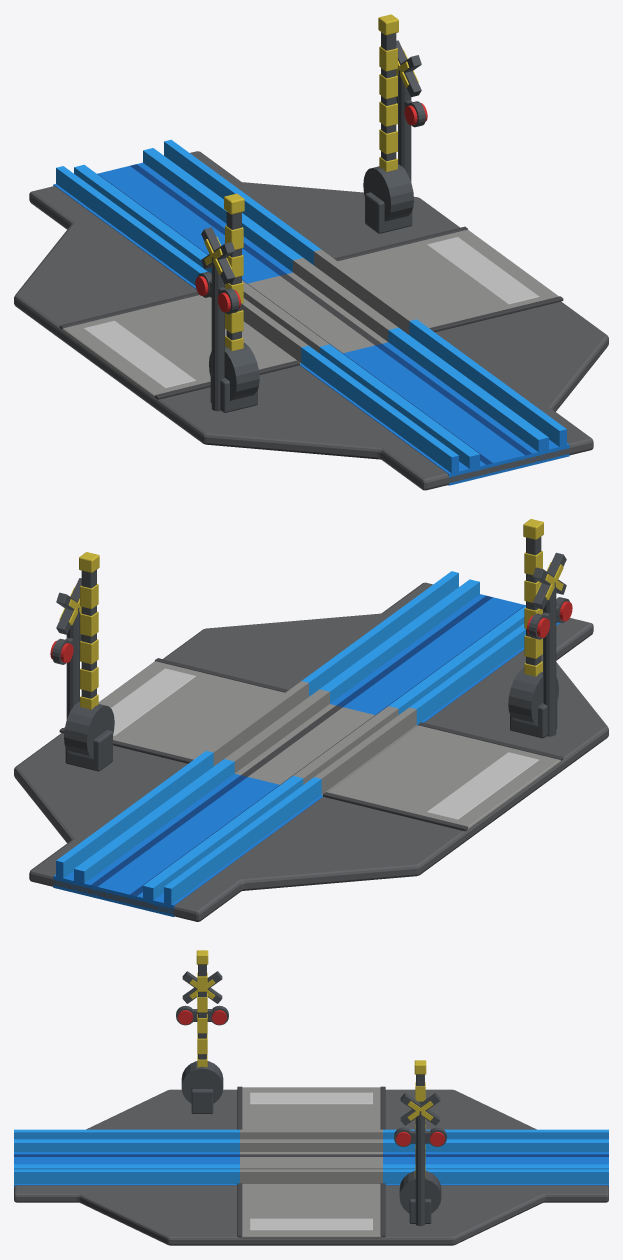
The model's file is Track_NewCrossing.fbx.
3 renders of one model, top to bottom at view 1: azimuth 30°, elevation 25°; view 2: azimuth 150°, elevation 25°; view 3: azimuth 270°, elevation 25°, orthographic. The views are drawn at different scales.
Parts seen in each view (by area): view 1: Crossing road, Bed, Bed.002, Bed.001, Crossing deck, Crossing deck.001, Stop line.001, Stop line, Crossing drum B, Warning post.001, Crossing drum A, Warning post (+4 smaller); view 2: Crossing road, Bed.002, Bed, Bed.001, Crossing deck.001, Crossing deck, Stop line.001, Stop line, Crossing drum B, Warning post.001, Crossing drum A, Warning post (+8 smaller); view 3: Crossing road, Bed, Bed.002, Bed.001, Crossing deck, Crossing deck.001, Stop line.001, Stop line, Crossing drum A, Warning post, Crossing drum B, Crossing gate seat A.
Part boxes in pixels (x1,y1,x2,y2): Crossing road: [14, 151, 608, 490]; Bed: [300, 319, 569, 485]; Bed.002: [53, 139, 320, 289]; Bed.001: [209, 249, 416, 363]; Crossing deck: [338, 229, 558, 328]; Crossing deck.001: [61, 295, 295, 399]; Stop line.001: [83, 320, 195, 387]; Stop line: [427, 237, 539, 304]; Crossing drum B: [363, 164, 413, 221]; Warning post.001: [211, 257, 224, 411]; Crossing drum A: [209, 343, 259, 400]; Warning post: [398, 70, 411, 181]; Crossing road: [14, 582, 608, 921]; Bed.002: [53, 751, 322, 916]; Bed: [302, 571, 559, 725]; Bed.001: [206, 681, 417, 795]; Crossing deck.001: [327, 725, 561, 831]; Crossing deck: [64, 661, 284, 759]; Stop line.001: [427, 752, 538, 819]; Stop line: [111, 668, 195, 735]; Crossing drum B: [64, 701, 114, 759]; Warning post.001: [543, 582, 556, 736]; Crossing drum A: [508, 668, 558, 726]; Warning post: [66, 607, 79, 719]; Crossing road: [14, 1089, 608, 1245]; Bed: [14, 1129, 239, 1186]; Bed.002: [383, 1129, 608, 1186]; Bed.001: [240, 1129, 382, 1183]; Crossing deck: [240, 1184, 382, 1238]; Crossing deck.001: [242, 1087, 380, 1129]; Stop line.001: [250, 1092, 372, 1104]; Stop line: [250, 1218, 372, 1230]; Crossing drum A: [181, 1061, 223, 1103]; Warning post: [415, 1111, 425, 1225]; Crossing drum B: [399, 1171, 441, 1213]; Crossing gate seat A: [191, 1089, 213, 1113].
Bounding box in the file's own units: 356 × 183 × 600.
